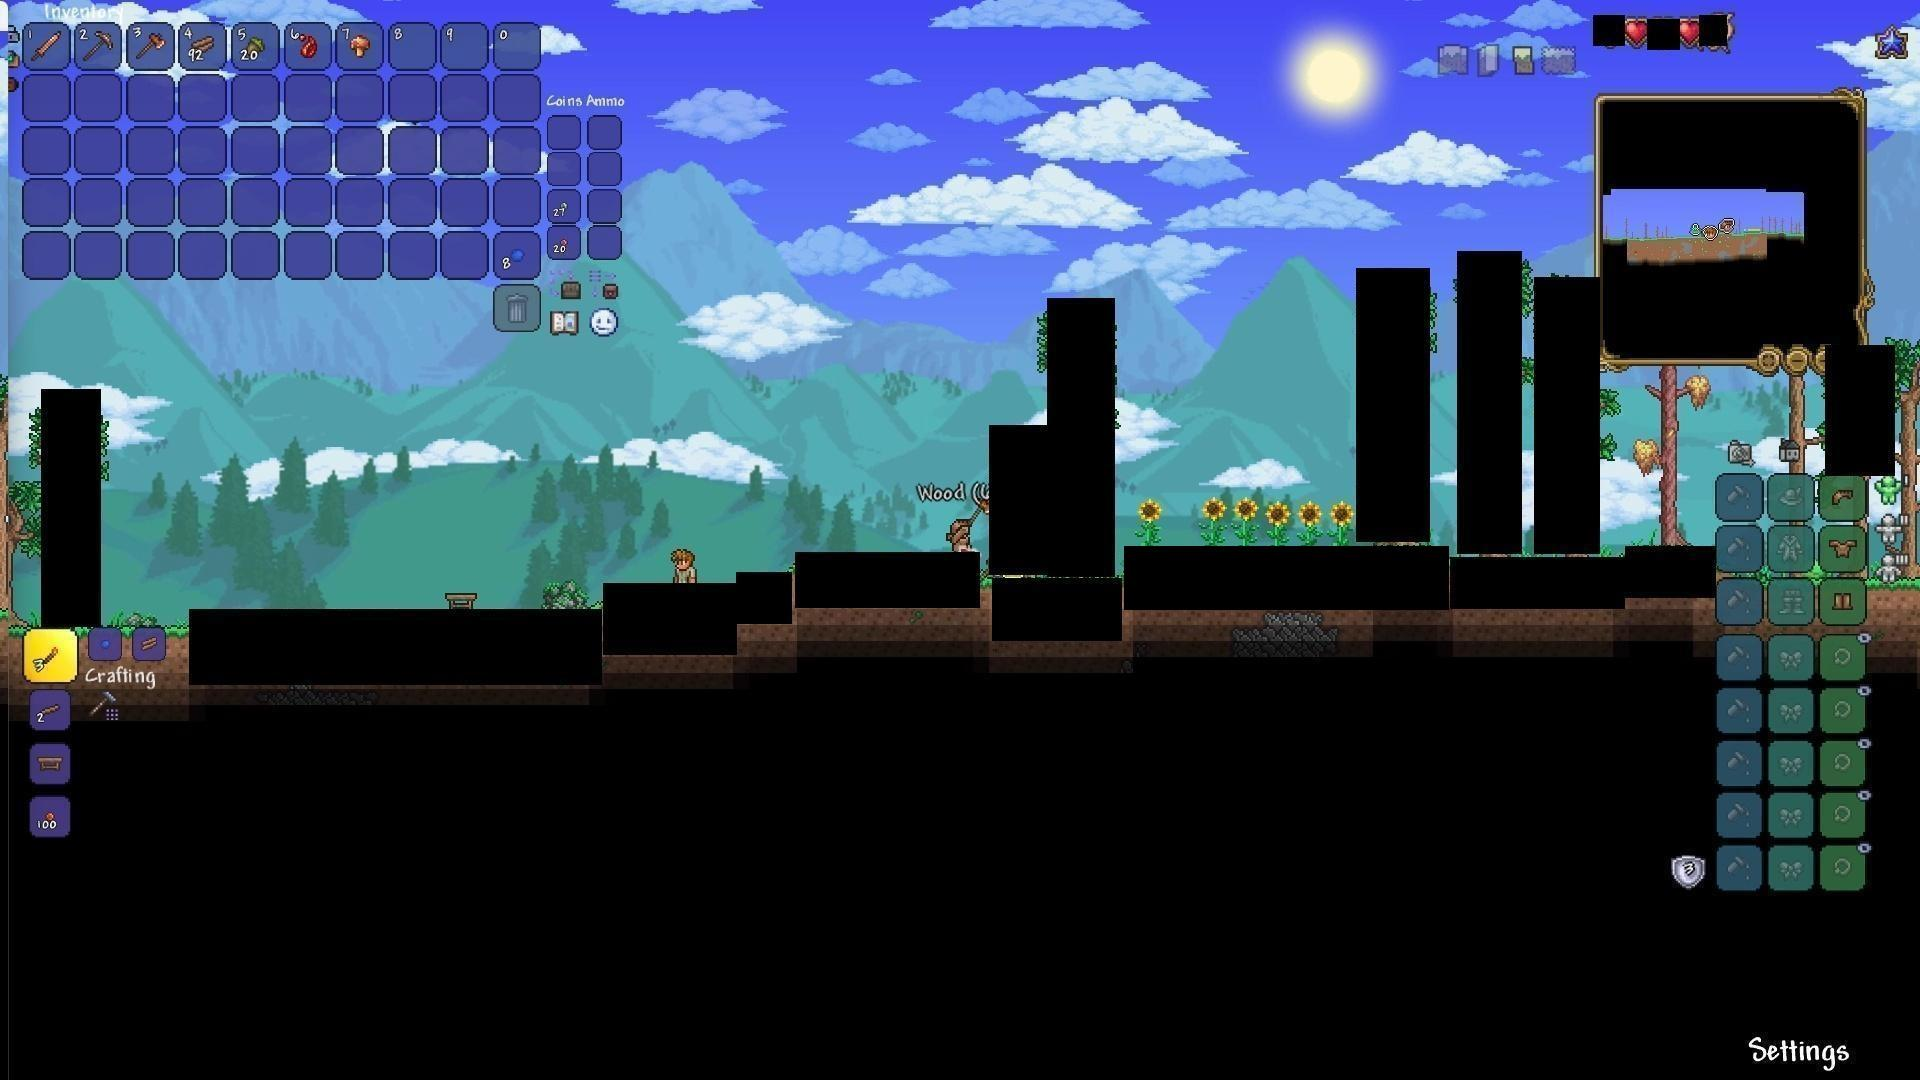breastplate: (1830, 537, 1859, 558)
heart: (1675, 17, 1702, 47), (1621, 17, 1648, 47)
helmet: (1829, 484, 1858, 509)
legs: (1832, 588, 1857, 616)
tree: (1643, 367, 1704, 543), (1894, 349, 1920, 574)
wood: (189, 32, 218, 59), (135, 629, 164, 655)
workbench: (32, 750, 69, 775), (440, 589, 477, 615)
